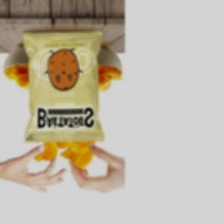snack: (16, 25, 109, 146)
